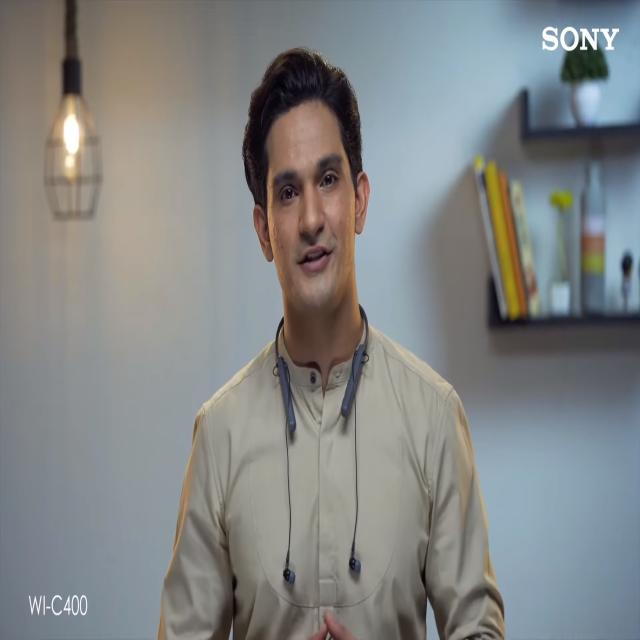Neckband: (274, 302, 370, 586)
